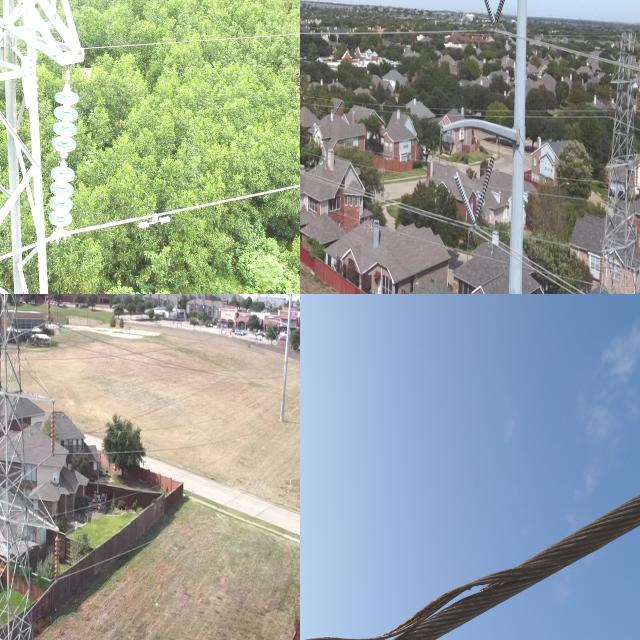杆塔: (0, 0, 96, 294), (0, 294, 50, 640), (592, 14, 640, 294)
正常电缆: (0, 178, 300, 266), (0, 26, 300, 55)
正常绝缘子: (48, 68, 80, 252), (473, 155, 496, 225), (452, 170, 478, 227), (50, 527, 63, 590), (48, 398, 59, 461), (44, 294, 55, 333), (492, 0, 506, 28), (485, 0, 497, 27), (608, 86, 614, 119), (603, 170, 608, 202), (599, 257, 603, 287), (635, 158, 639, 188)
电缆破损: (300, 547, 522, 640)
绝缘子破损: (59, 153, 68, 166)
